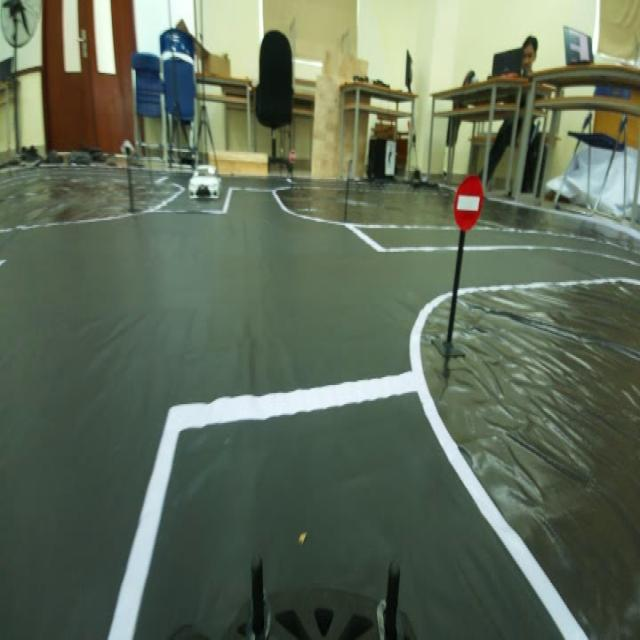car: (186, 157, 223, 209)
no_entry: (444, 168, 490, 234)
